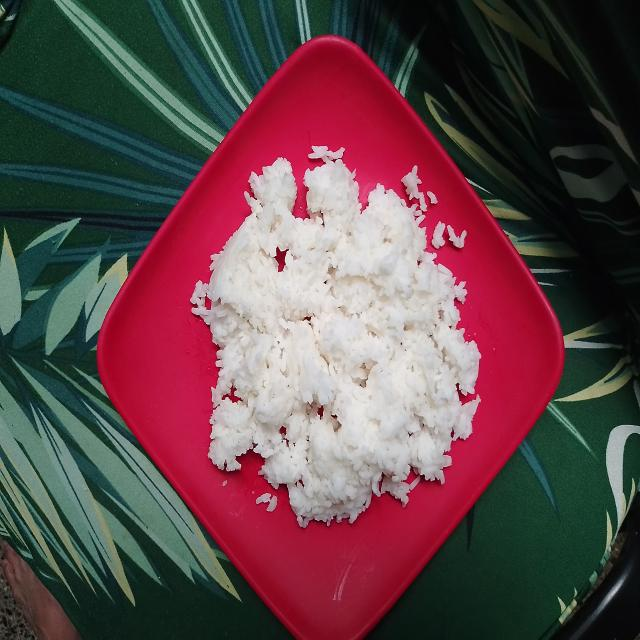Chicken -Chicken Inasal-: (198, 142, 490, 509)
